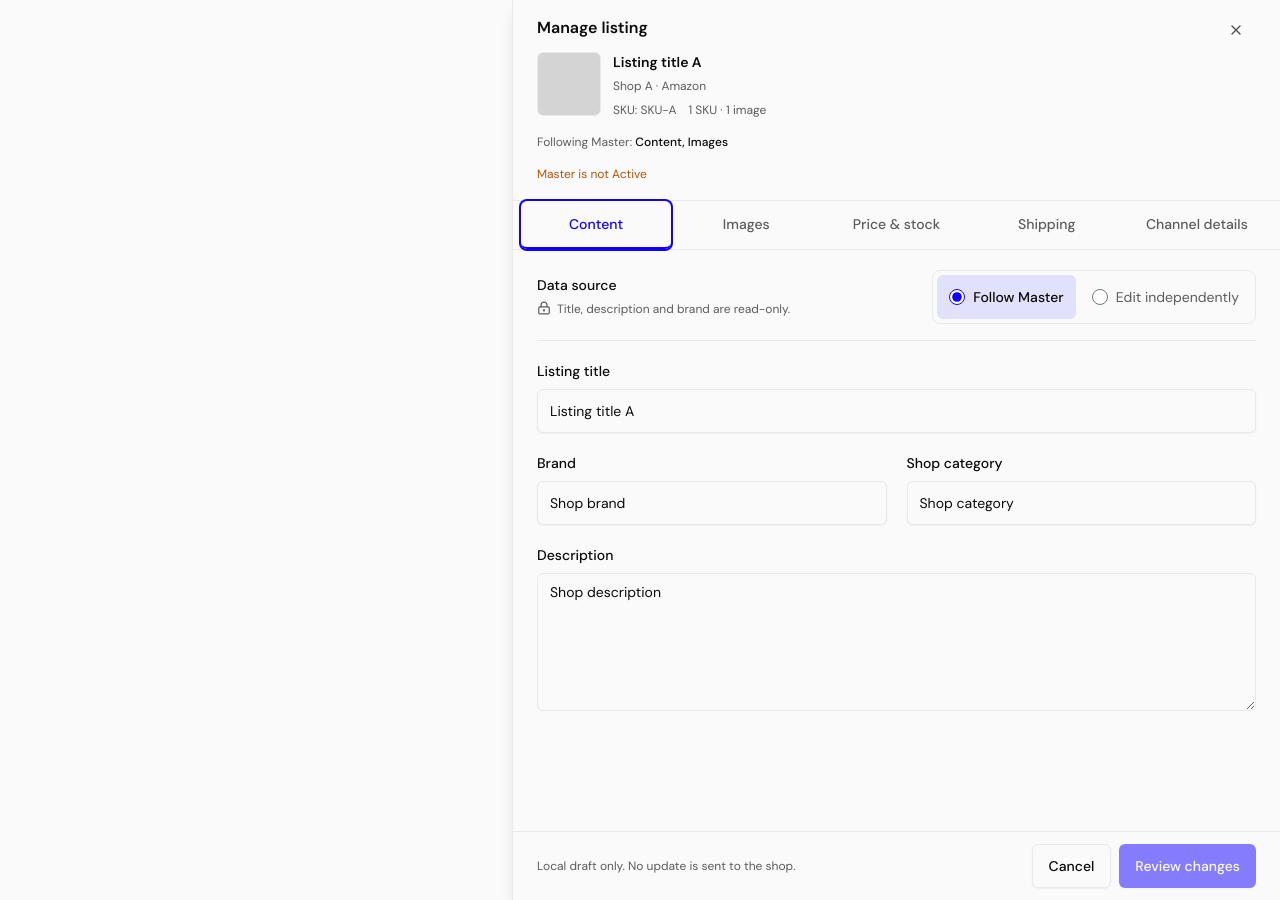
Test: Existing listing editor › locks only synced groups; other fields remain editable
Expected: the field labelled "Listing title" holds "Listing title A", [537,389,1256,433]
Expected: the field labelled "Shop category" is enabled, [906,481,1256,525]
Click the tab "Price & stock": (896, 225) [821,201,972,249]
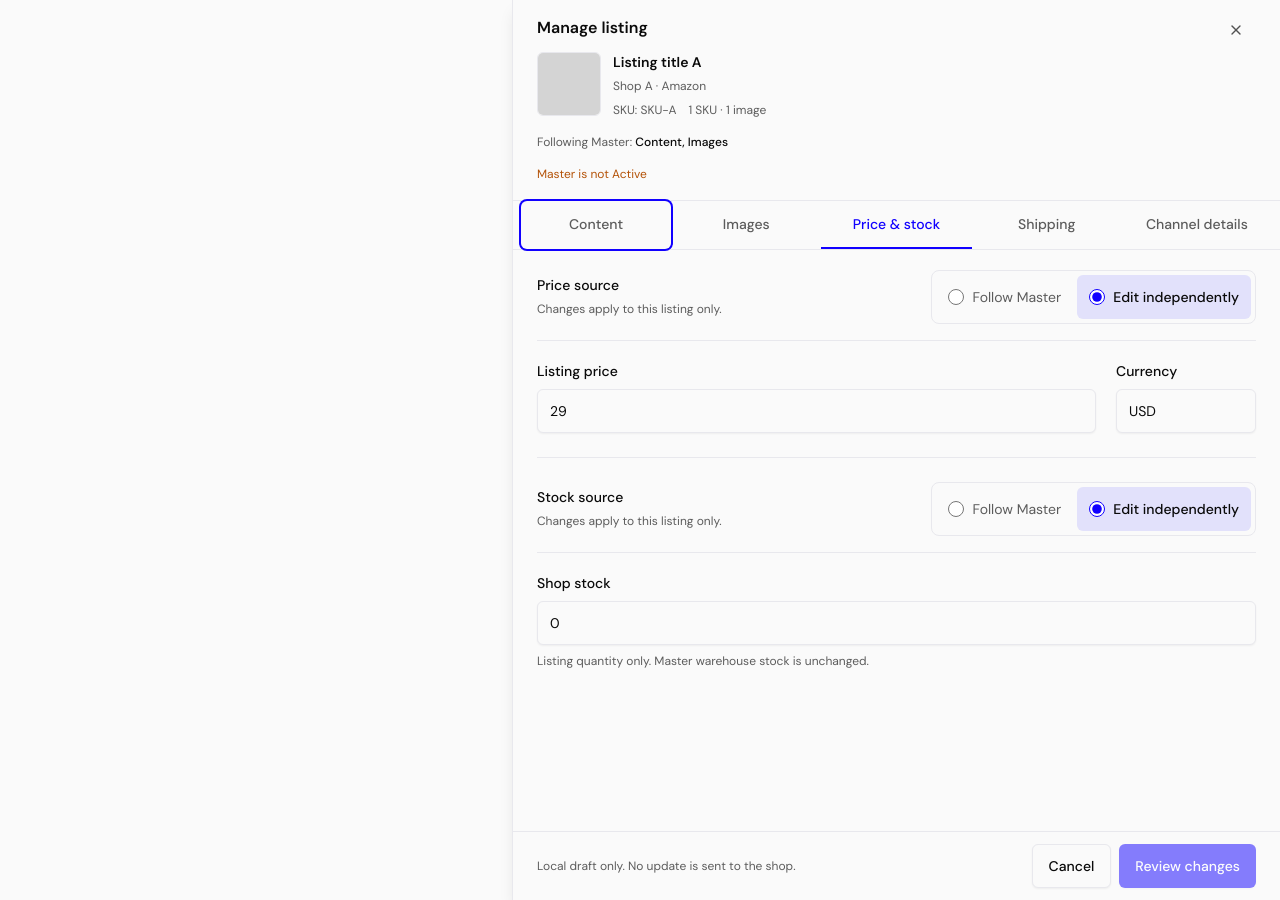
Expected: the message reads "Following Master: Content, Images", [537,134,728,150]
Expected: the number field labelled "Listing price" is enabled, [537,389,1096,433]
Expected: the number field labelled "Shop stock" is enabled, [537,601,1256,645]
